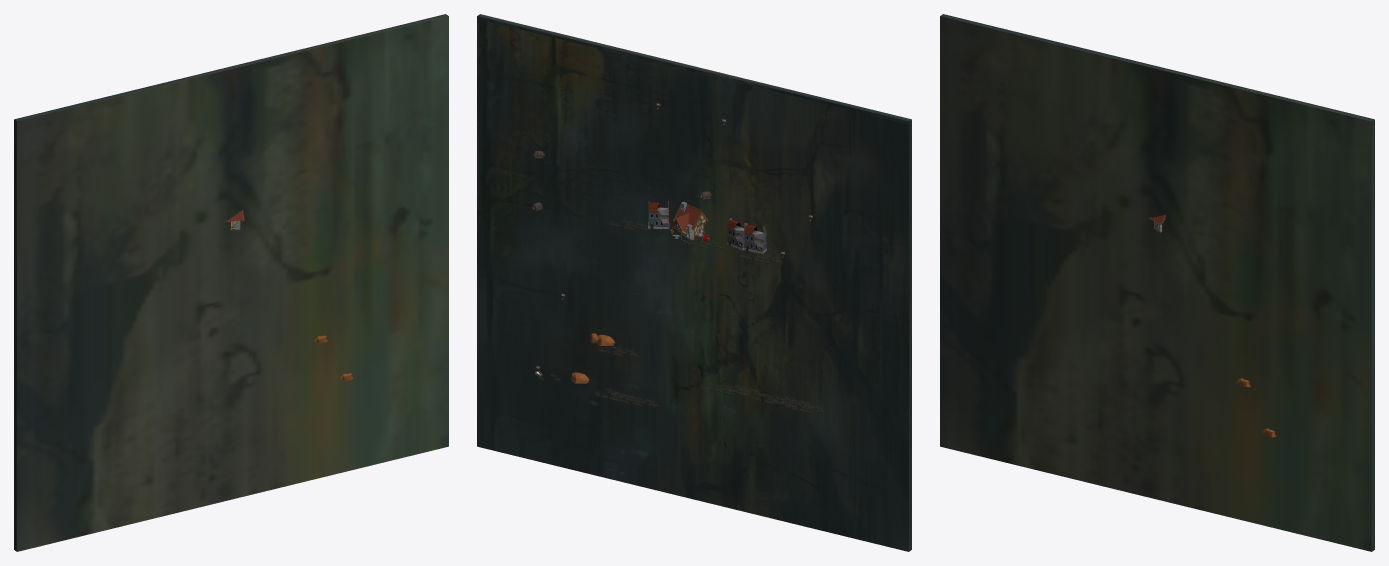
The model's file is start.glb.
The picture shows the model from 3 angles, left to right: view 1: azimuth 30°, elevation 25°; view 2: azimuth 150°, elevation 25°; view 3: azimuth 330°, elevation 25°; orthographic projection.
Parts seen in each view (by area): view 1: Background; view 2: Background, Blacksmith.001, House_low.002, House_low; view 3: Background.
Boxes of the visible parts, <box> form: Background: <box>14,14,448,551</box>; Background: <box>477,14,911,551</box>; Blacksmith.001: <box>671,202,708,240</box>; House_low.002: <box>744,223,766,253</box>; House_low: <box>648,201,669,228</box>; Background: <box>940,14,1374,551</box>.
Size of what is drawn, in the model's own units: 181 by 173 by 15.72.
Materials: 23 (11 with a texture image).
